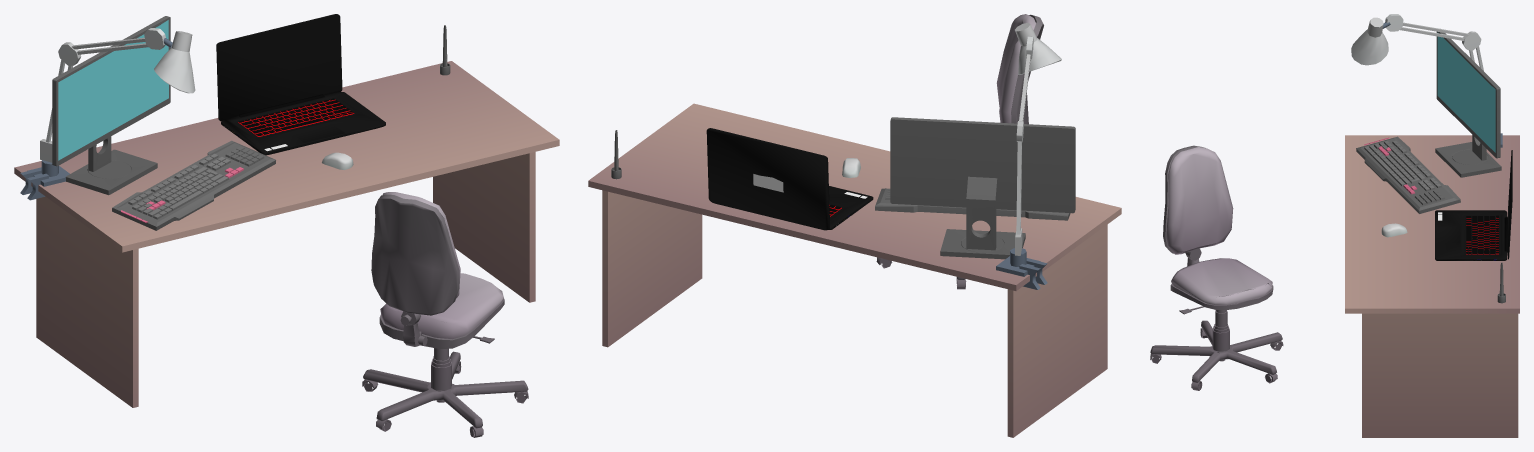
Rendered from kop-v1.glb.
3 views of the same model, side by side, from view 1: azimuth 30°, elevation 25°; view 2: azimuth 150°, elevation 25°; view 3: azimuth 270°, elevation 25° (orthographic). The views are drawn at different scales.
Visible parts, largest first — view 1: keyboard_blinn1_0.001, Plane, Plane.001, Keyboard; view 2: keyboard_blinn1_0.001, Plane; view 3: keyboard_blinn1_0.001, Plane, Plane.001, Keyboard.
Part boxes in pixels (left/top/right/bottom): keyboard_blinn1_0.001: left=14, top=16, right=559, bottom=437; Plane: left=216, top=14, right=385, bottom=155; Plane.001: left=58, top=20, right=168, bottom=160; Keyboard: left=238, top=99, right=354, bottom=136; keyboard_blinn1_0.001: left=588, top=14, right=1121, bottom=437; Plane: left=706, top=128, right=873, bottom=230; keyboard_blinn1_0.001: left=1150, top=14, right=1519, bottom=437; Plane: left=1435, top=150, right=1512, bottom=260; Plane.001: left=1437, top=32, right=1495, bottom=152; Keyboard: left=1466, top=218, right=1498, bottom=254.
Size of the model in its own units: 4.04 by 3 by 3.55.
Materials: 4 (2 with a texture image).
